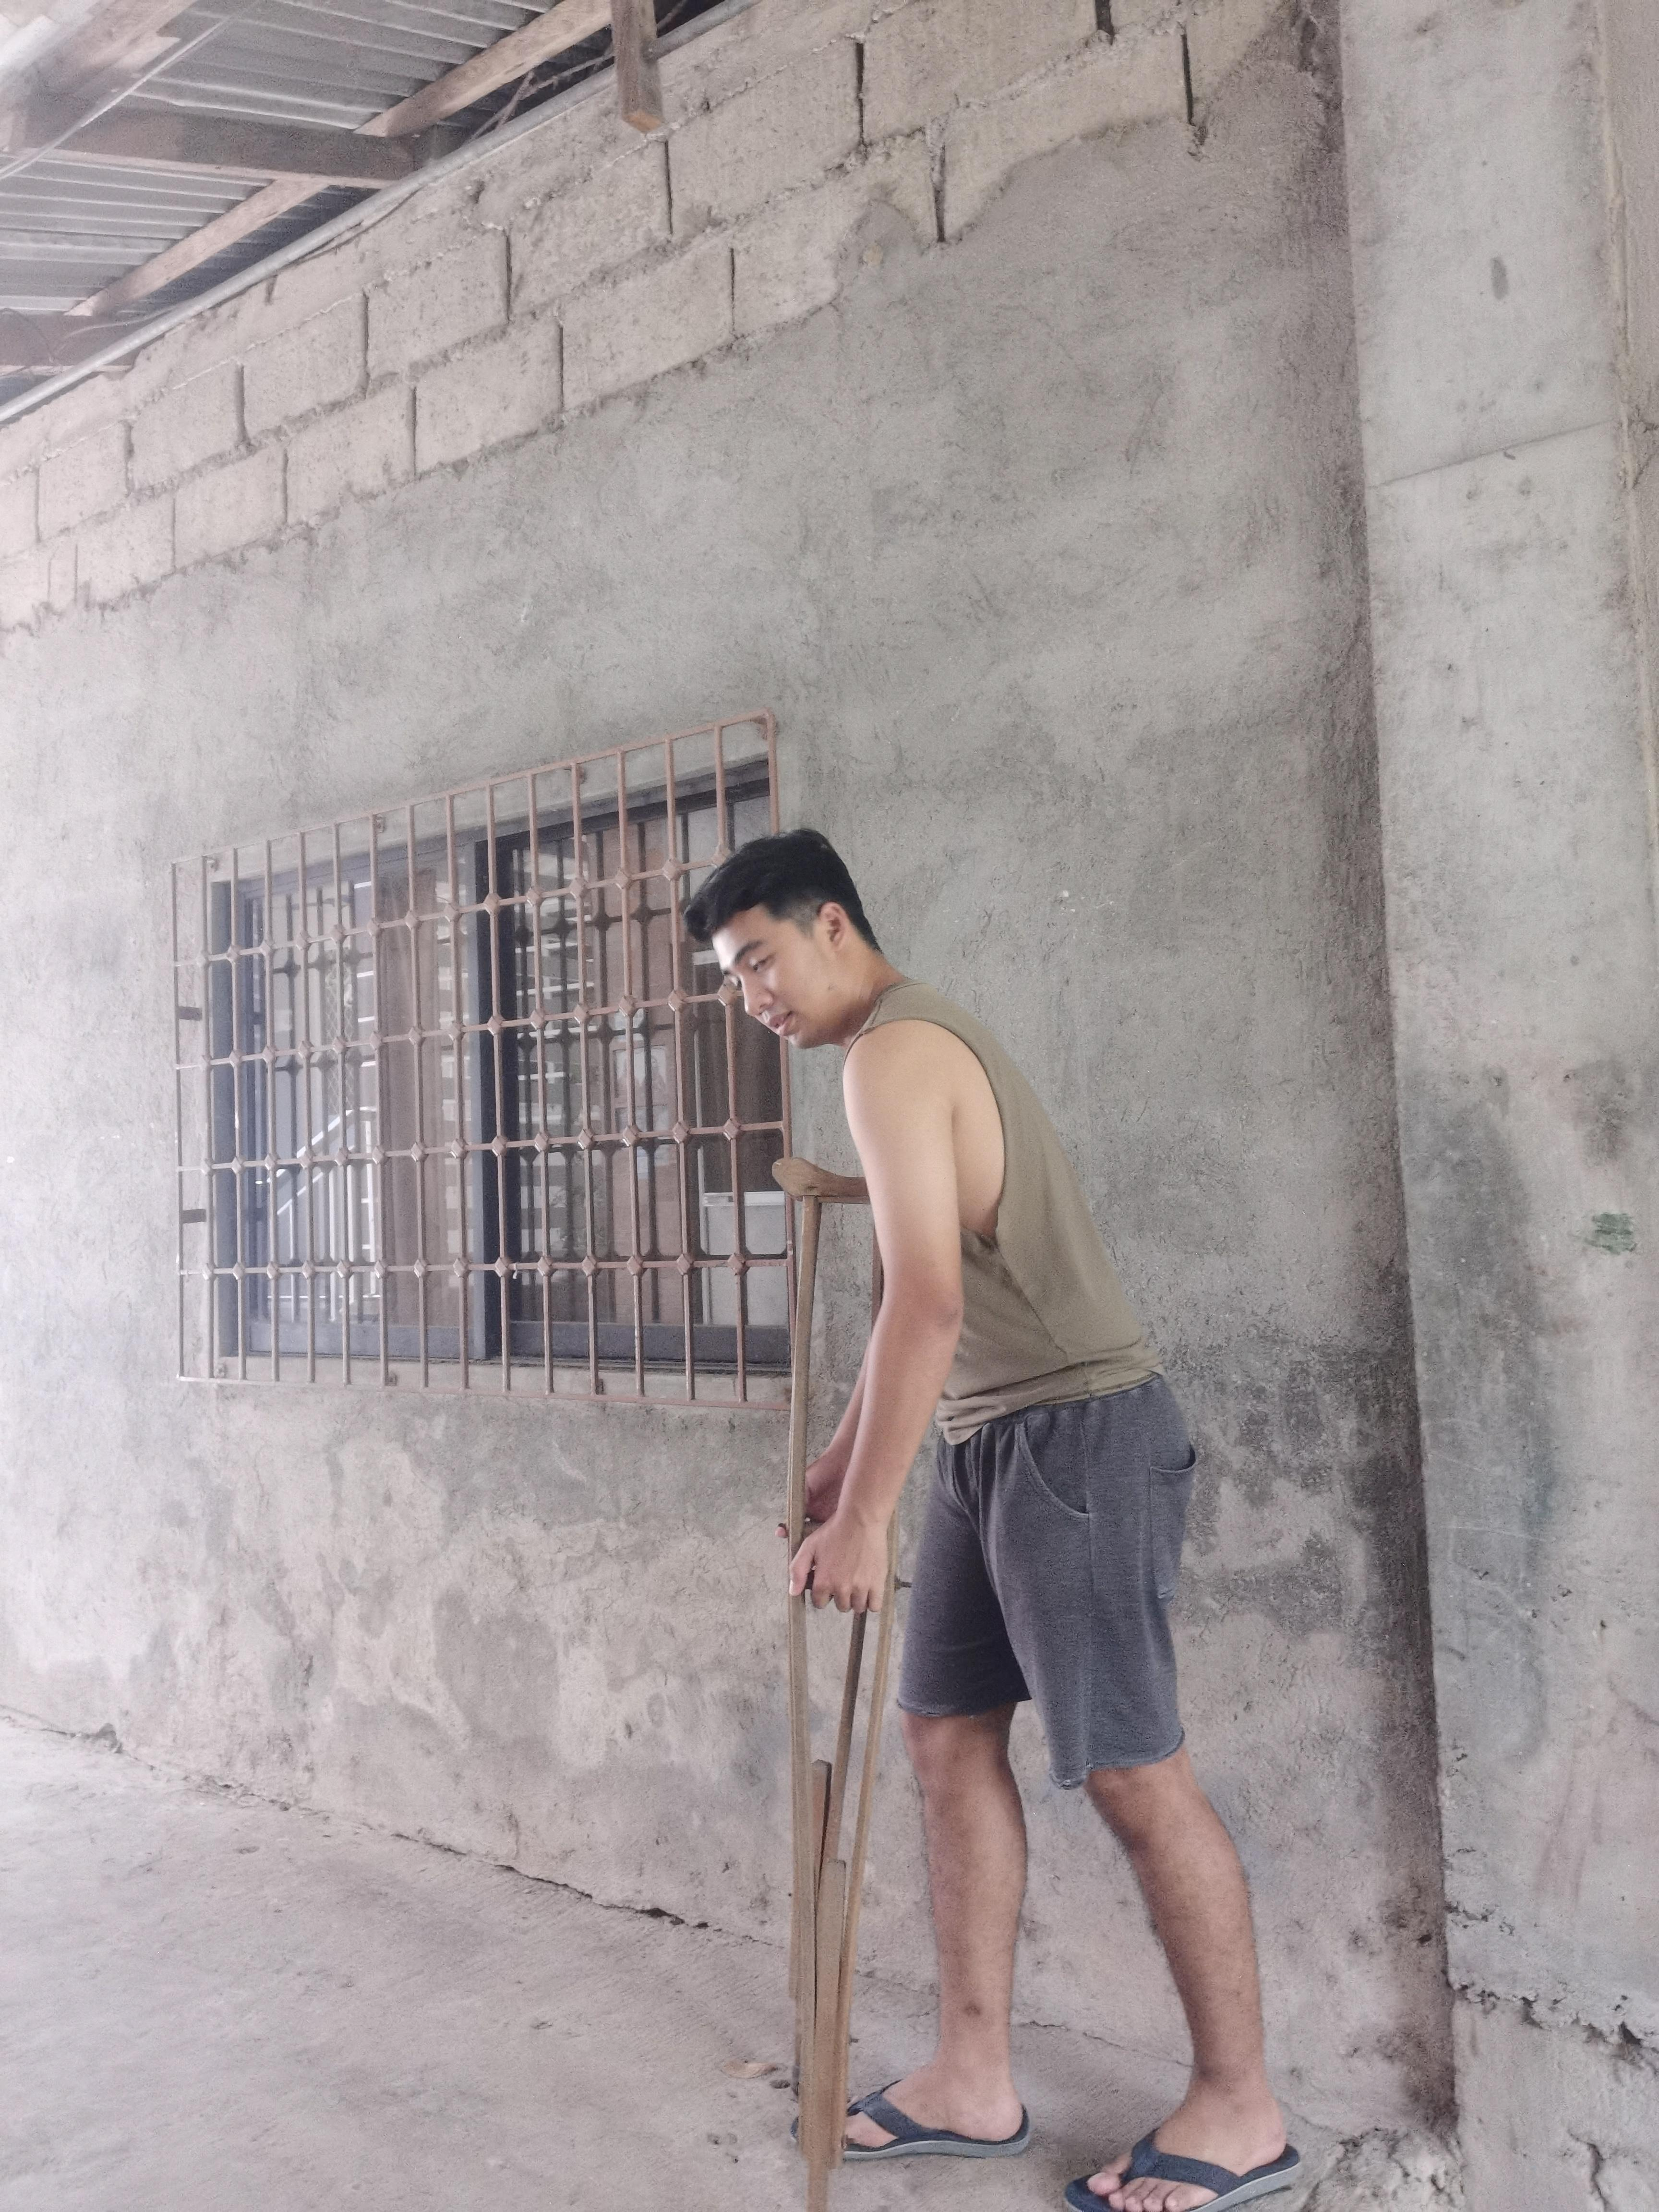crutches: (687, 827, 1302, 2210)
